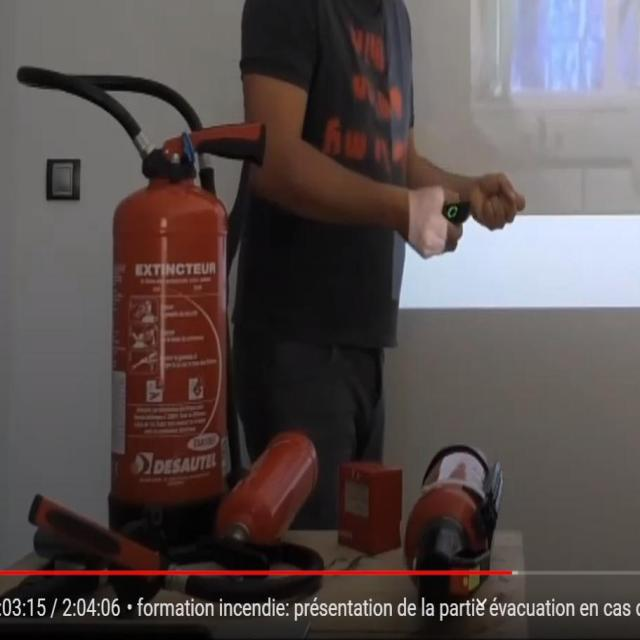fire_extinguisher: (10, 55, 270, 573), (16, 418, 325, 625), (400, 436, 507, 620)
